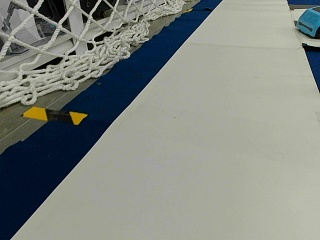car: (296, 8, 320, 38)
